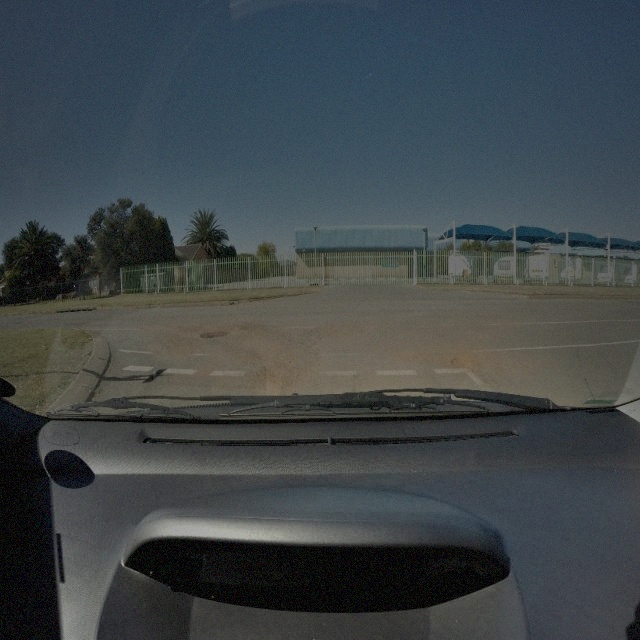pothole: (449, 355, 482, 370), (198, 329, 230, 339)
